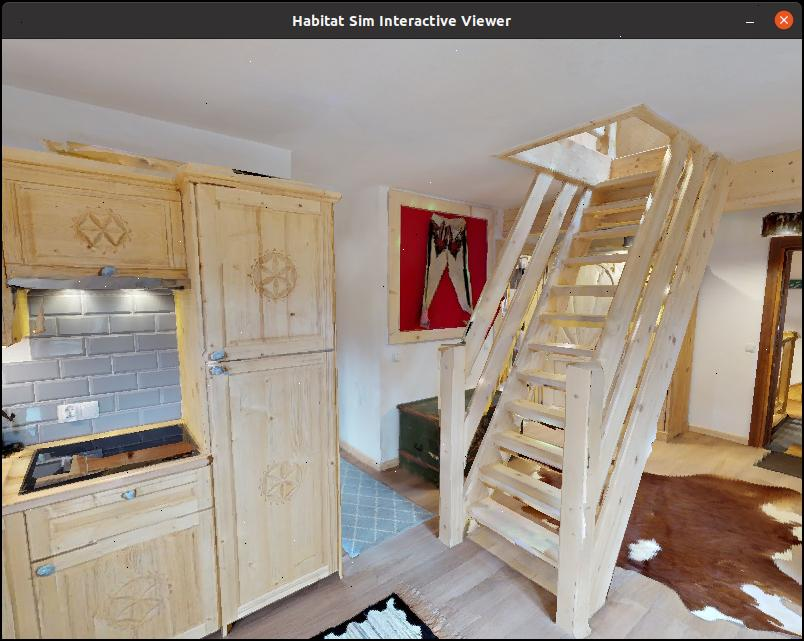stairs: (435, 145, 732, 613)
